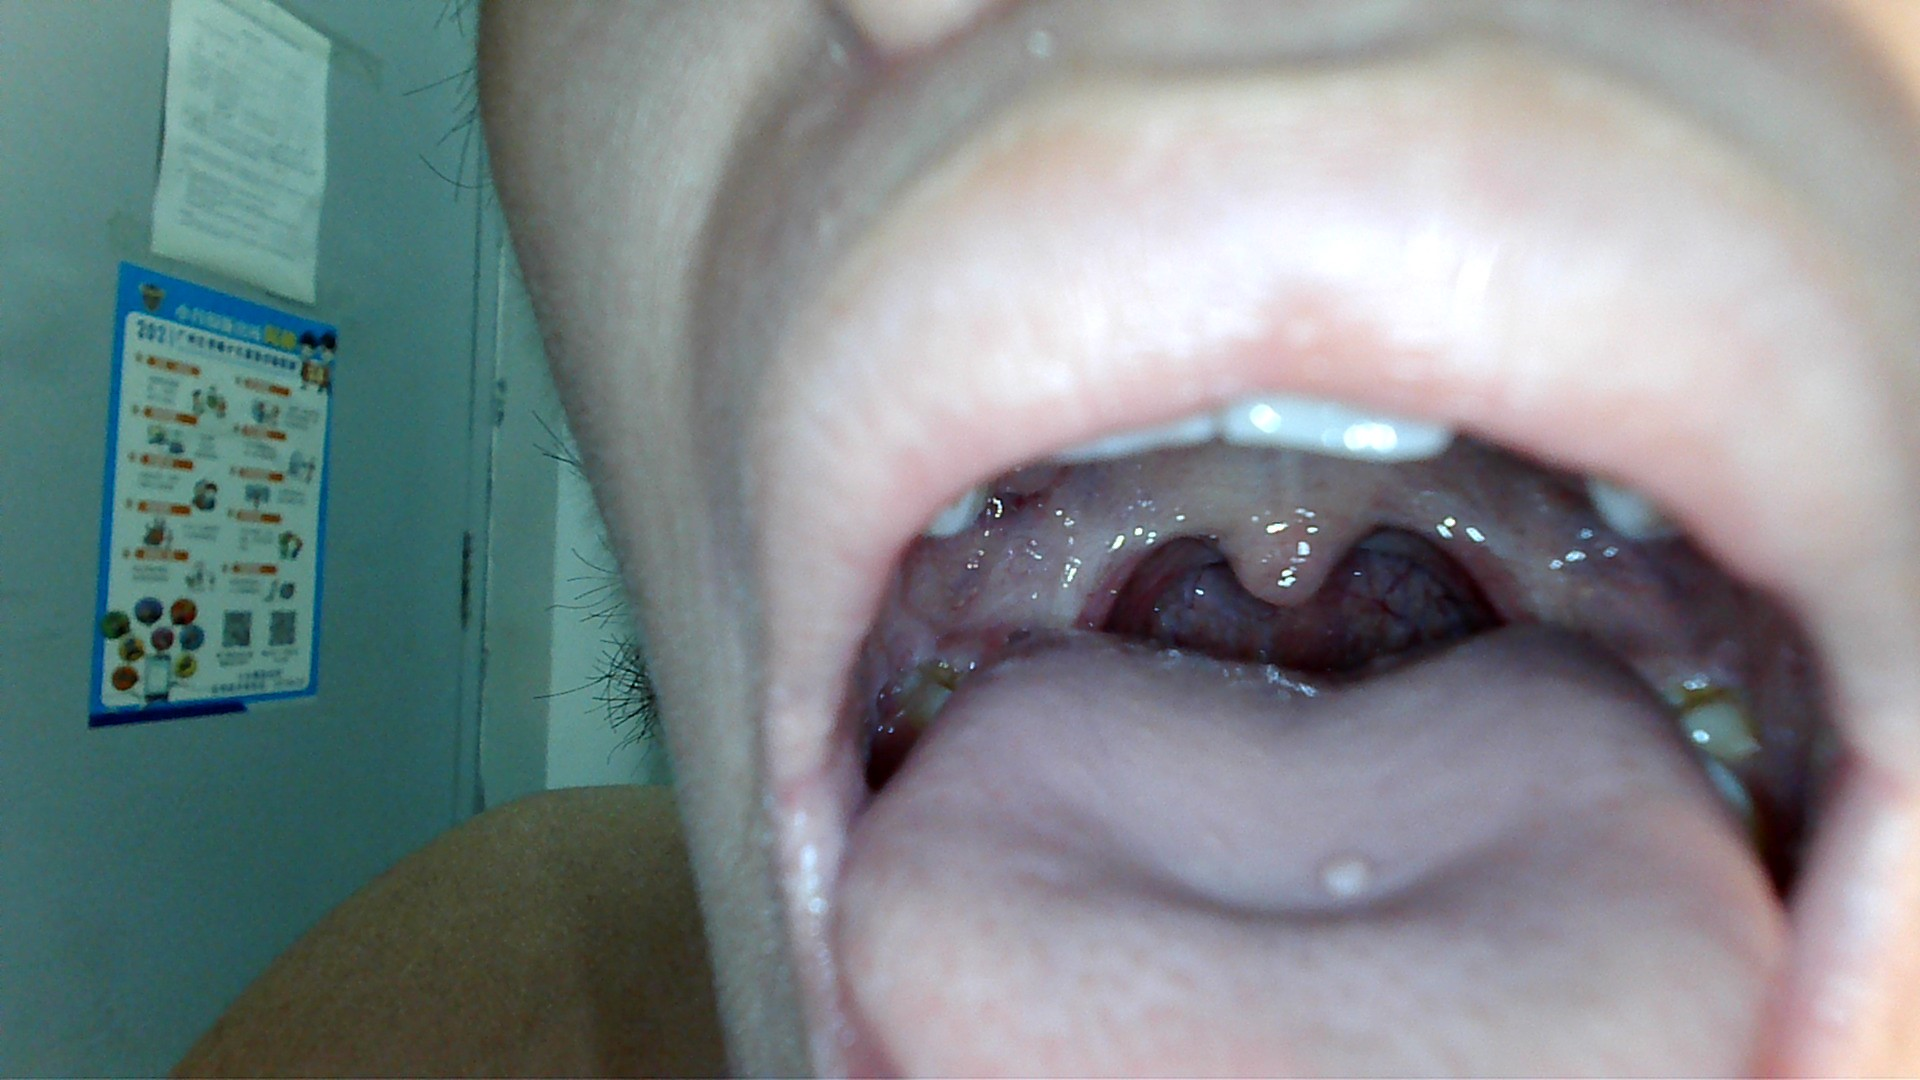throat: (1425, 504, 1530, 620), (1054, 508, 1142, 624)
